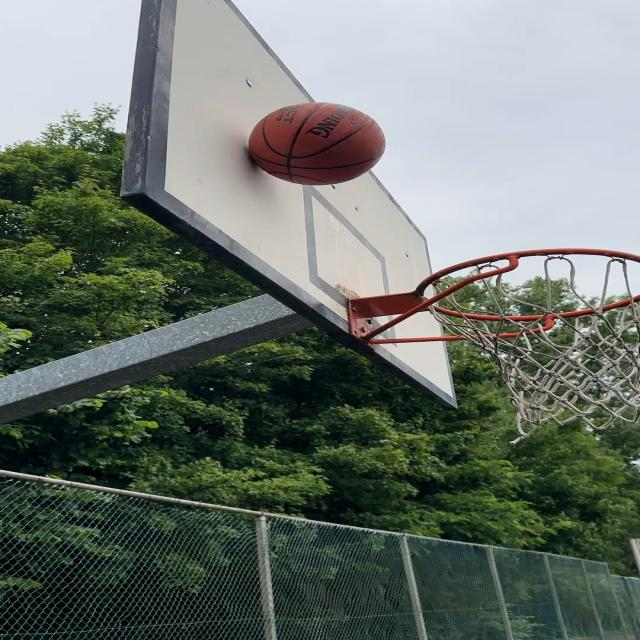rebound_hit: (248, 101, 388, 186)
